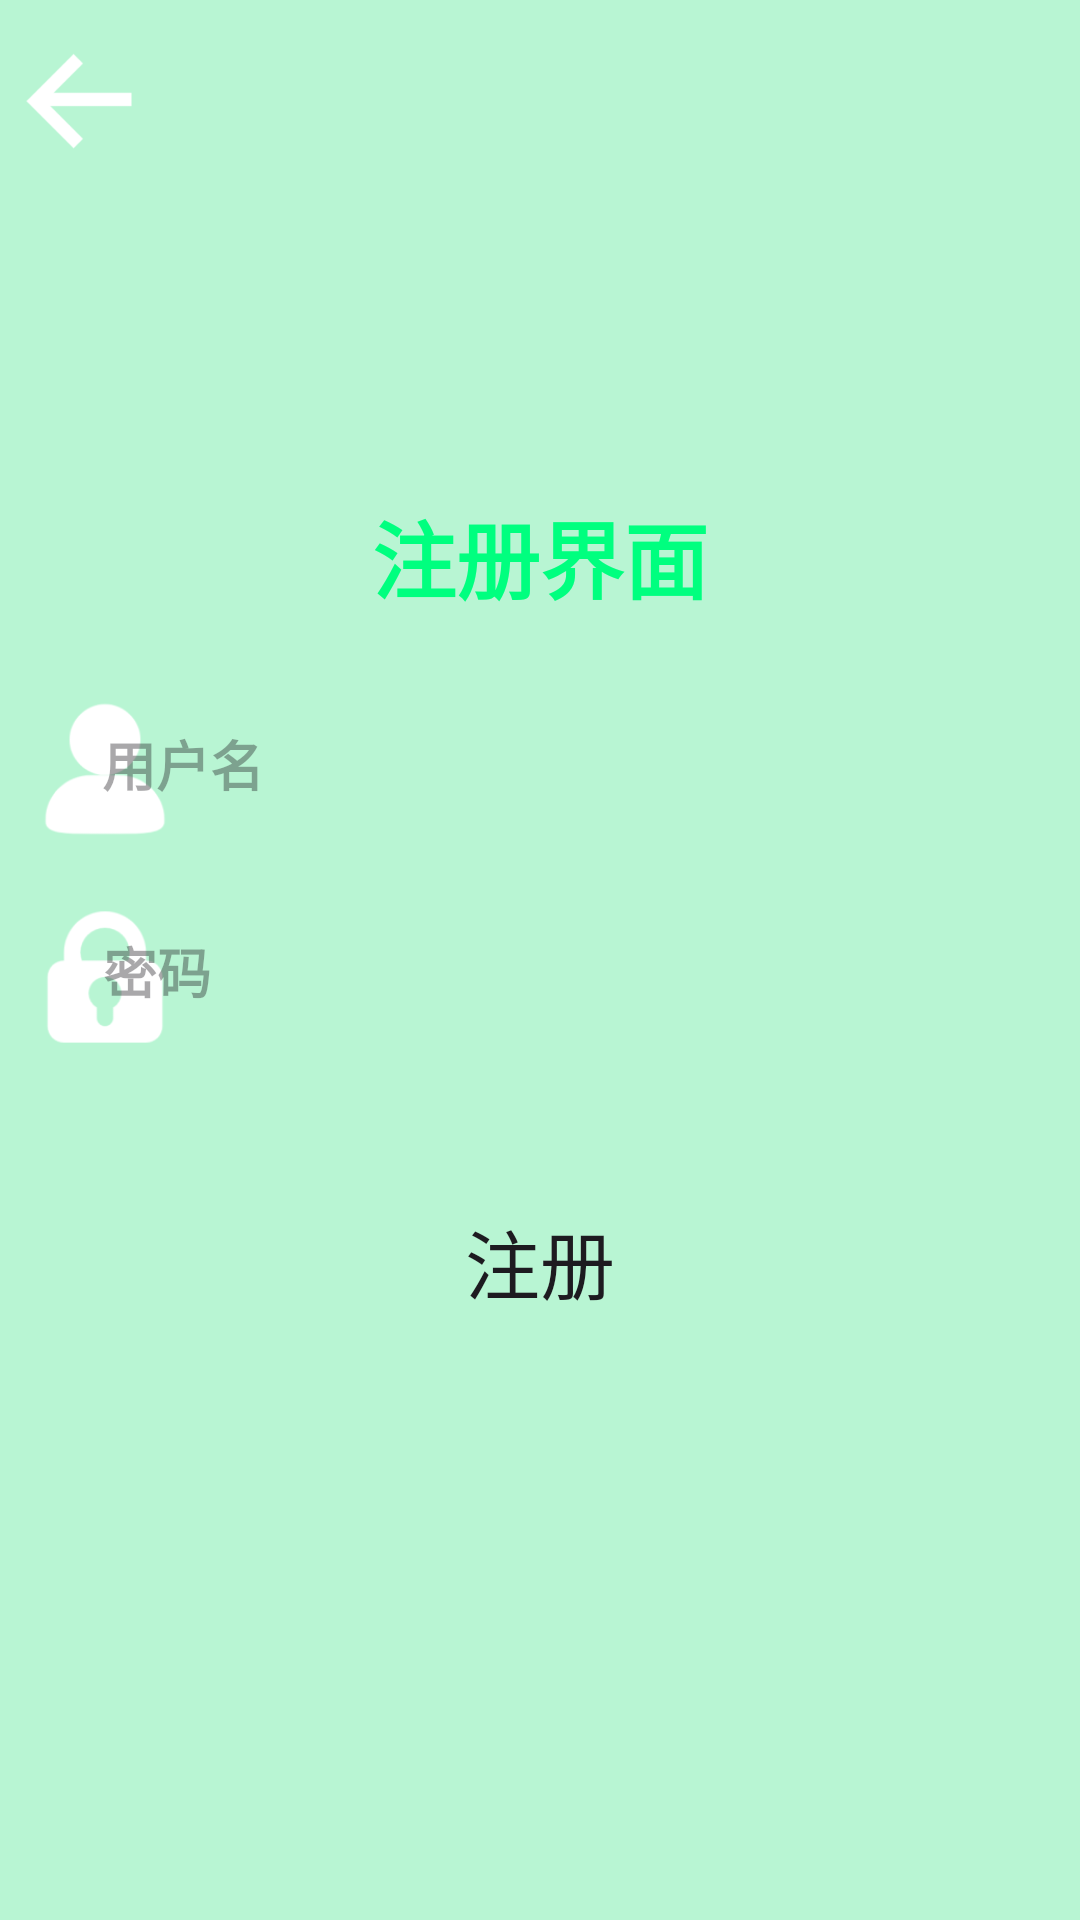

Icons on this 1080 x 1920 Android screen, each with the point to tap as point (x, y):
back: point (79, 101)
person: point (105, 769)
